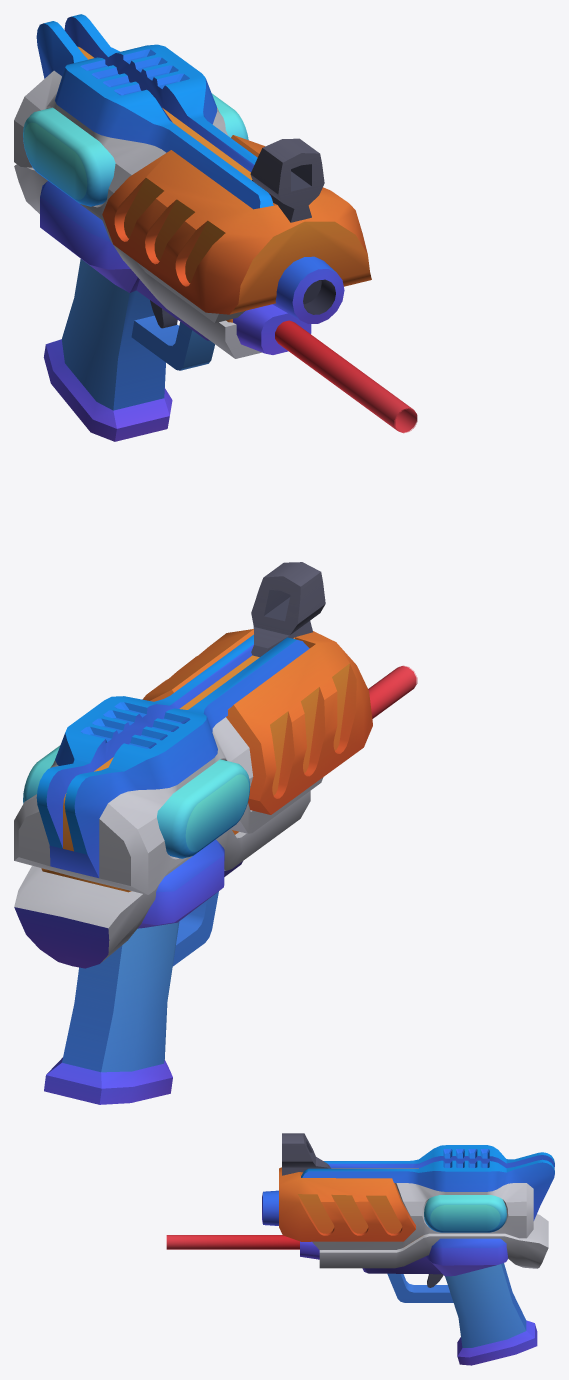
Rendered from Pistol A.fbx.
The picture shows the model from 3 angles, top to bottom: view 1: azimuth 30°, elevation 25°; view 2: azimuth 150°, elevation 25°; view 3: azimuth 270°, elevation 25°; orthographic projection. The views are drawn at different scales.
Parts seen in each view (by area): view 1: Pistol A, Pistol A.002; view 2: Pistol A, Pistol A.002; view 3: Pistol A, Pistol A.002.
Part boxes in pixels (x1=…): Pistol A: x1=14, y1=14, x2=371, y2=441; Pistol A.002: x1=275, y1=320, x2=417, y2=433; Pistol A: x1=14, y1=562, x2=372, y2=1104; Pistol A.002: x1=368, y1=665, x2=417, y2=718; Pistol A: x1=262, y1=1133, x2=554, y2=1365; Pistol A.002: x1=166, y1=1235, x2=299, y2=1249.
Bounding box in the file's own units: 0.2376 × 0.5631 × 1.24.
